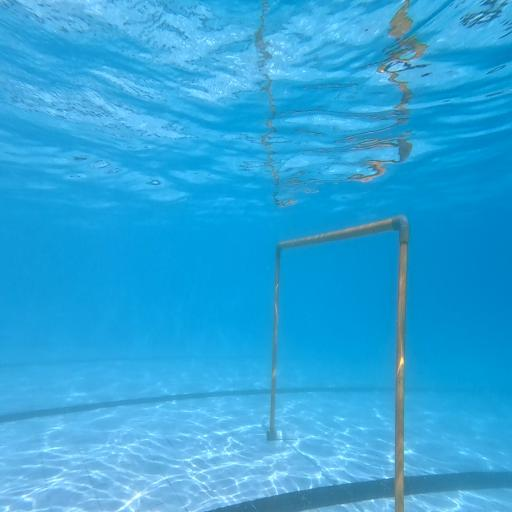gate: (268, 214, 409, 512)
